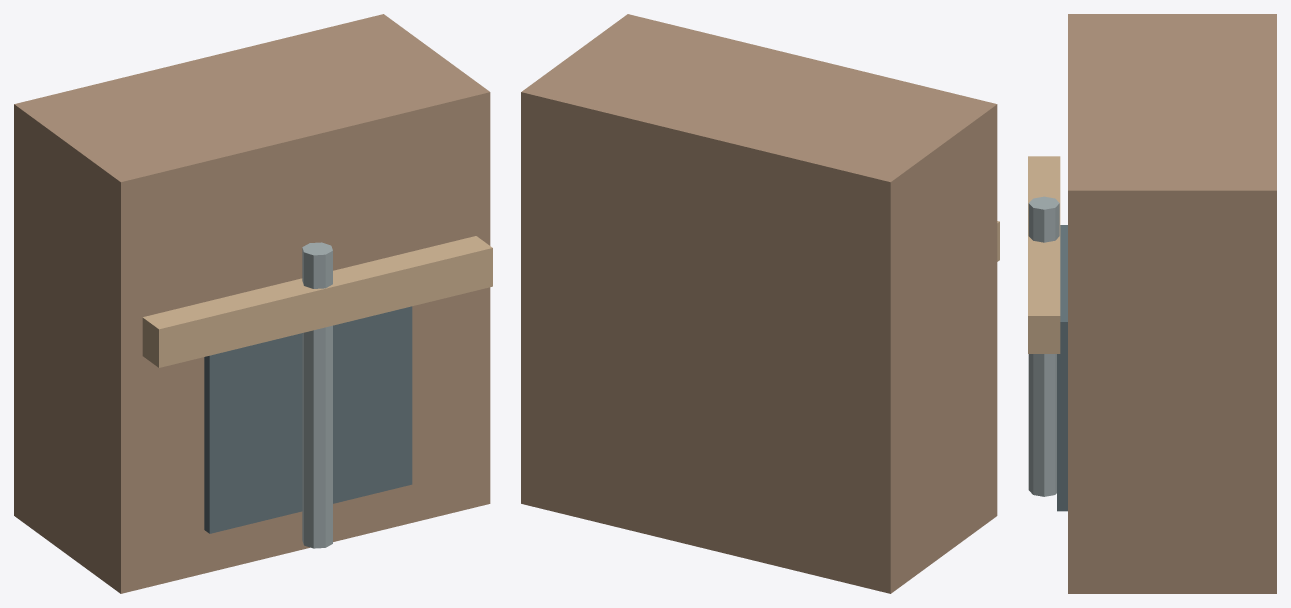
The model's file is apple_press_far-CmqfbrD8.glb.
3 views of the same model, side by side, from view 1: azimuth 30°, elevation 25°; view 2: azimuth 150°, elevation 25°; view 3: azimuth 270°, elevation 25° (orthographic). The views are drawn at different scales.
Visible parts, largest first — view 1: apple_press_far; view 2: apple_press_far; view 3: apple_press_far.
Part boxes in pixels (<box>): apple_press_far: <box>14,14,492,593</box>; apple_press_far: <box>521,14,999,593</box>; apple_press_far: <box>1028,14,1276,593</box>.
Bounding box in the file's own units: 6.2 × 6.6 × 3.69.
